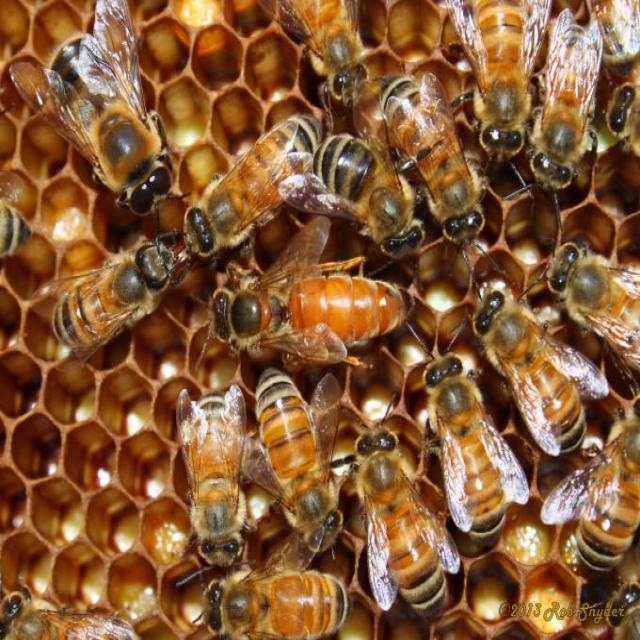honeybee: (28, 15, 175, 202), (356, 424, 456, 638), (382, 68, 493, 245), (186, 110, 325, 251), (475, 287, 589, 453), (255, 361, 352, 554), (207, 267, 420, 344), (164, 378, 252, 562), (426, 355, 508, 552), (46, 238, 179, 354), (572, 392, 640, 606), (316, 126, 422, 252), (533, 15, 607, 190), (548, 238, 640, 376), (204, 571, 351, 640), (473, 0, 535, 161), (283, 0, 373, 97), (0, 584, 138, 640)
